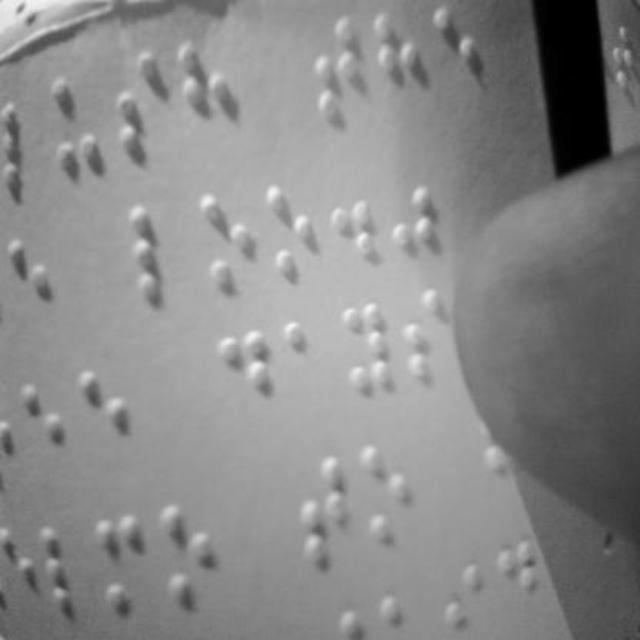braiile: (160, 494, 228, 610), (94, 494, 154, 618), (432, 2, 492, 124), (173, 32, 234, 150), (215, 318, 278, 430), (52, 66, 112, 178), (356, 434, 416, 546), (338, 290, 399, 400), (82, 361, 142, 471), (296, 443, 349, 567), (117, 41, 173, 156), (129, 200, 189, 306), (0, 85, 56, 197), (263, 178, 321, 286), (40, 510, 96, 620), (308, 12, 362, 126), (197, 186, 253, 294), (372, 8, 424, 120), (402, 280, 452, 396), (4, 224, 54, 334), (24, 371, 76, 474), (282, 313, 332, 417)
